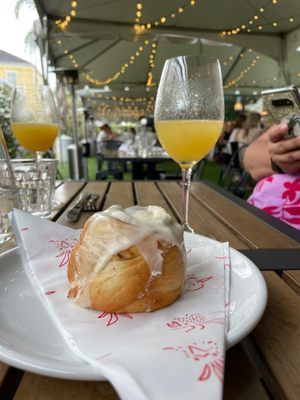curry: (0, 166, 300, 399)
sandwich: (152, 56, 225, 250), (0, 49, 62, 217)
